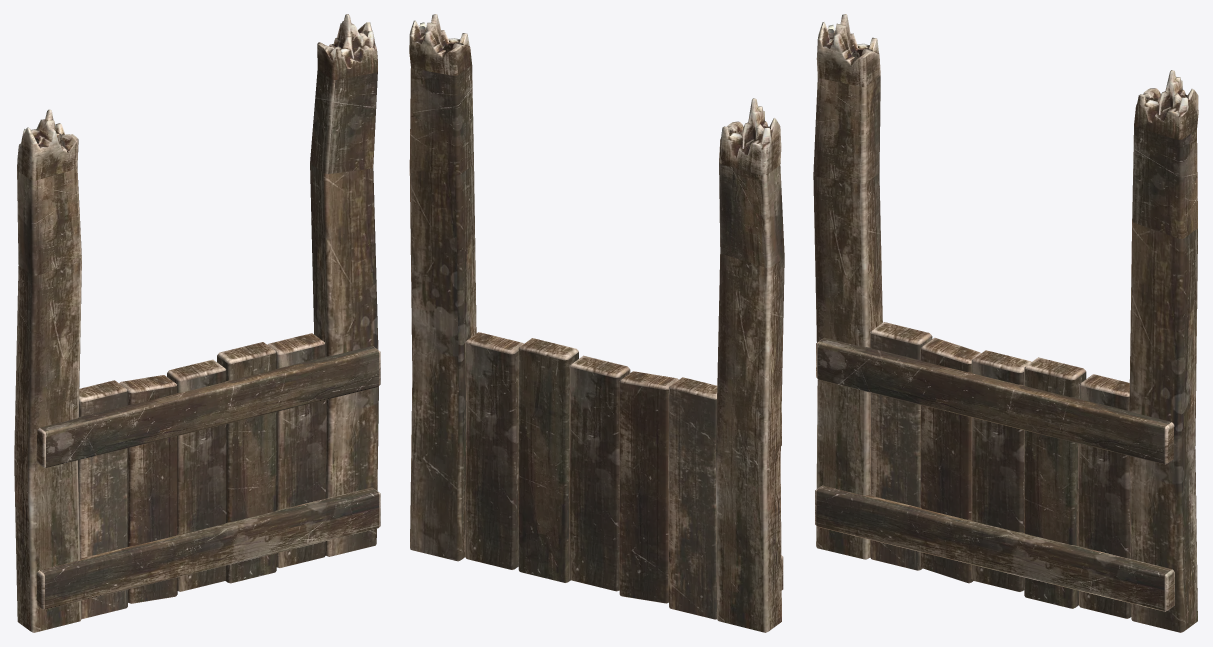
The picture shows the model from 3 angles, left to right: view 1: azimuth 30°, elevation 25°; view 2: azimuth 150°, elevation 25°; view 3: azimuth 330°, elevation 25°; orthographic projection. The views are drawn at different scales.
Parts seen in each view (by area): view 1: SM_Human_Ruins_Wall_Wood_02_LOD0; view 2: SM_Human_Ruins_Wall_Wood_02_LOD0; view 3: SM_Human_Ruins_Wall_Wood_02_LOD0.
Part boxes in pixels (bbox=[...]): SM_Human_Ruins_Wall_Wood_02_LOD0: bbox=[14, 14, 380, 632]; SM_Human_Ruins_Wall_Wood_02_LOD0: bbox=[409, 14, 784, 632]; SM_Human_Ruins_Wall_Wood_02_LOD0: bbox=[813, 14, 1198, 632].
Bounding box in the file's own units: 1.99 × 2.86 × 0.2706.
1 material, 1 textured.
